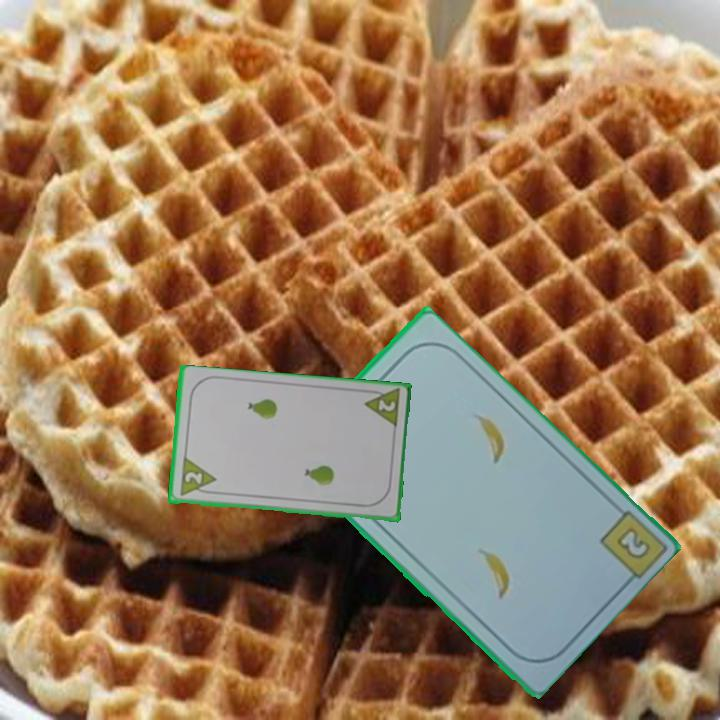2b: (612, 523, 653, 563)
2p: (360, 386, 403, 431), (176, 455, 218, 499)
